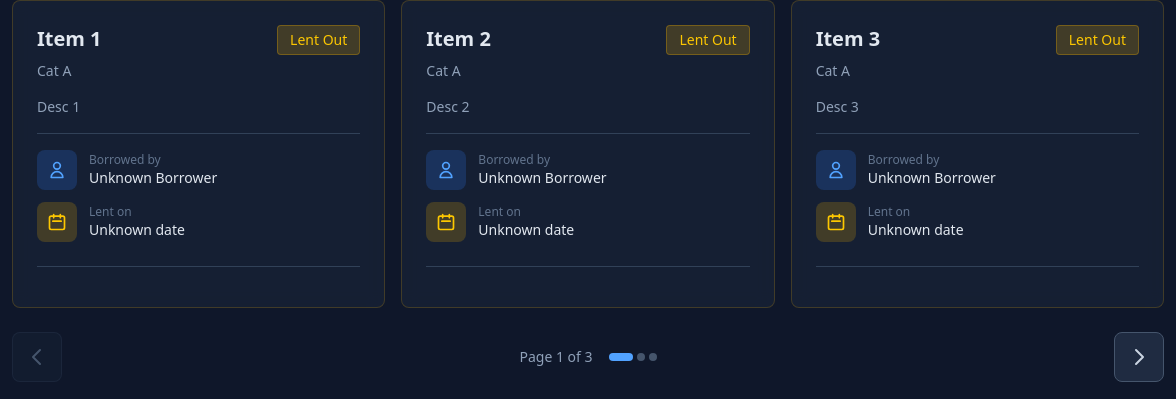
Test: ItemCarousel Component › Navigation Buttons (T036, T037) › shows both buttons enabled on middle pages
Navigate to page 2
Step 1. Click the button named "Next page" → x=1139, y=357, box [1114,332,1164,382]
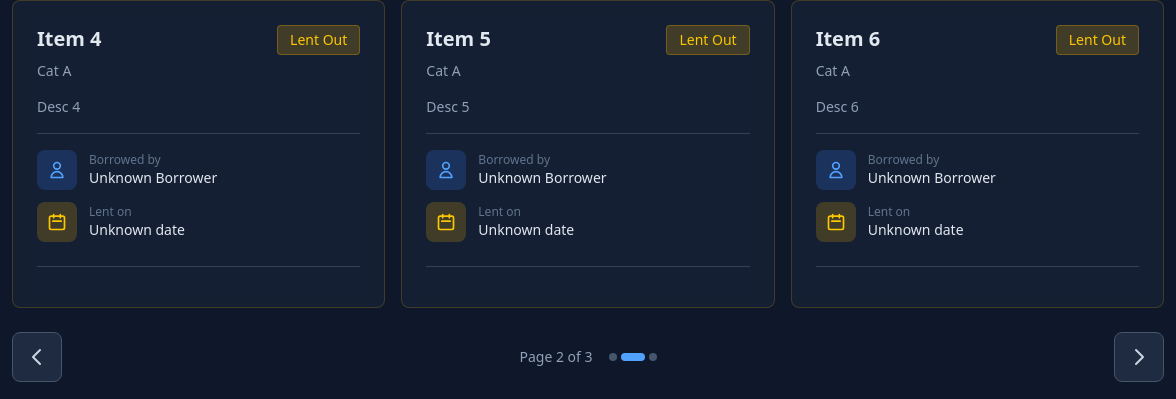
Result: the button named "Previous page" is enabled at [12,332,62,382]
